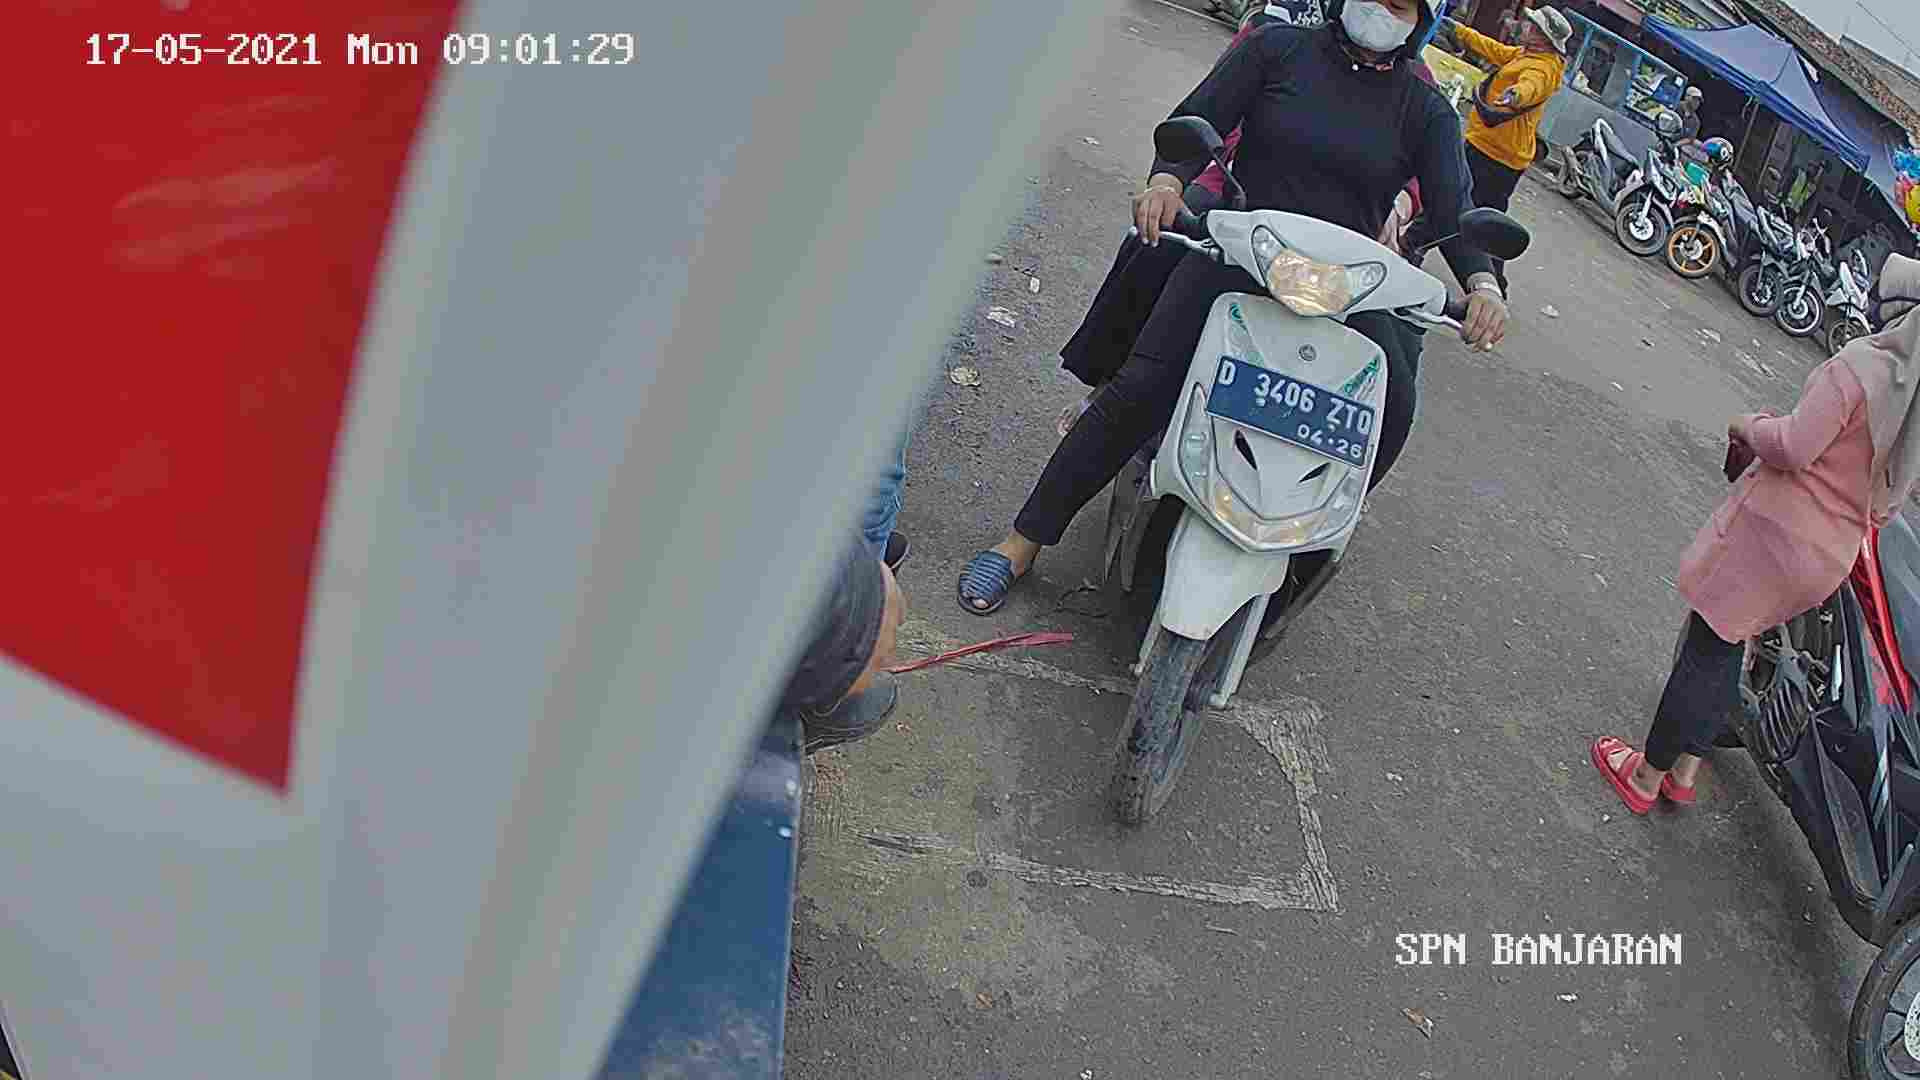motor: (1087, 138, 1447, 844)
